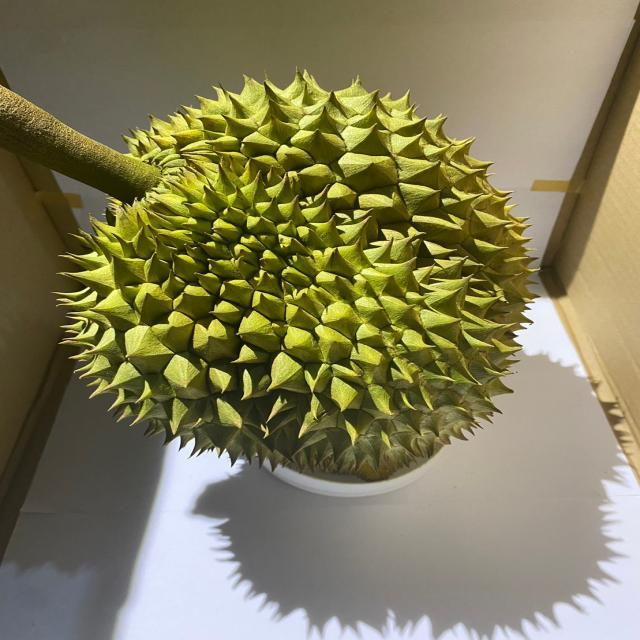immature: (52, 68, 544, 482)
